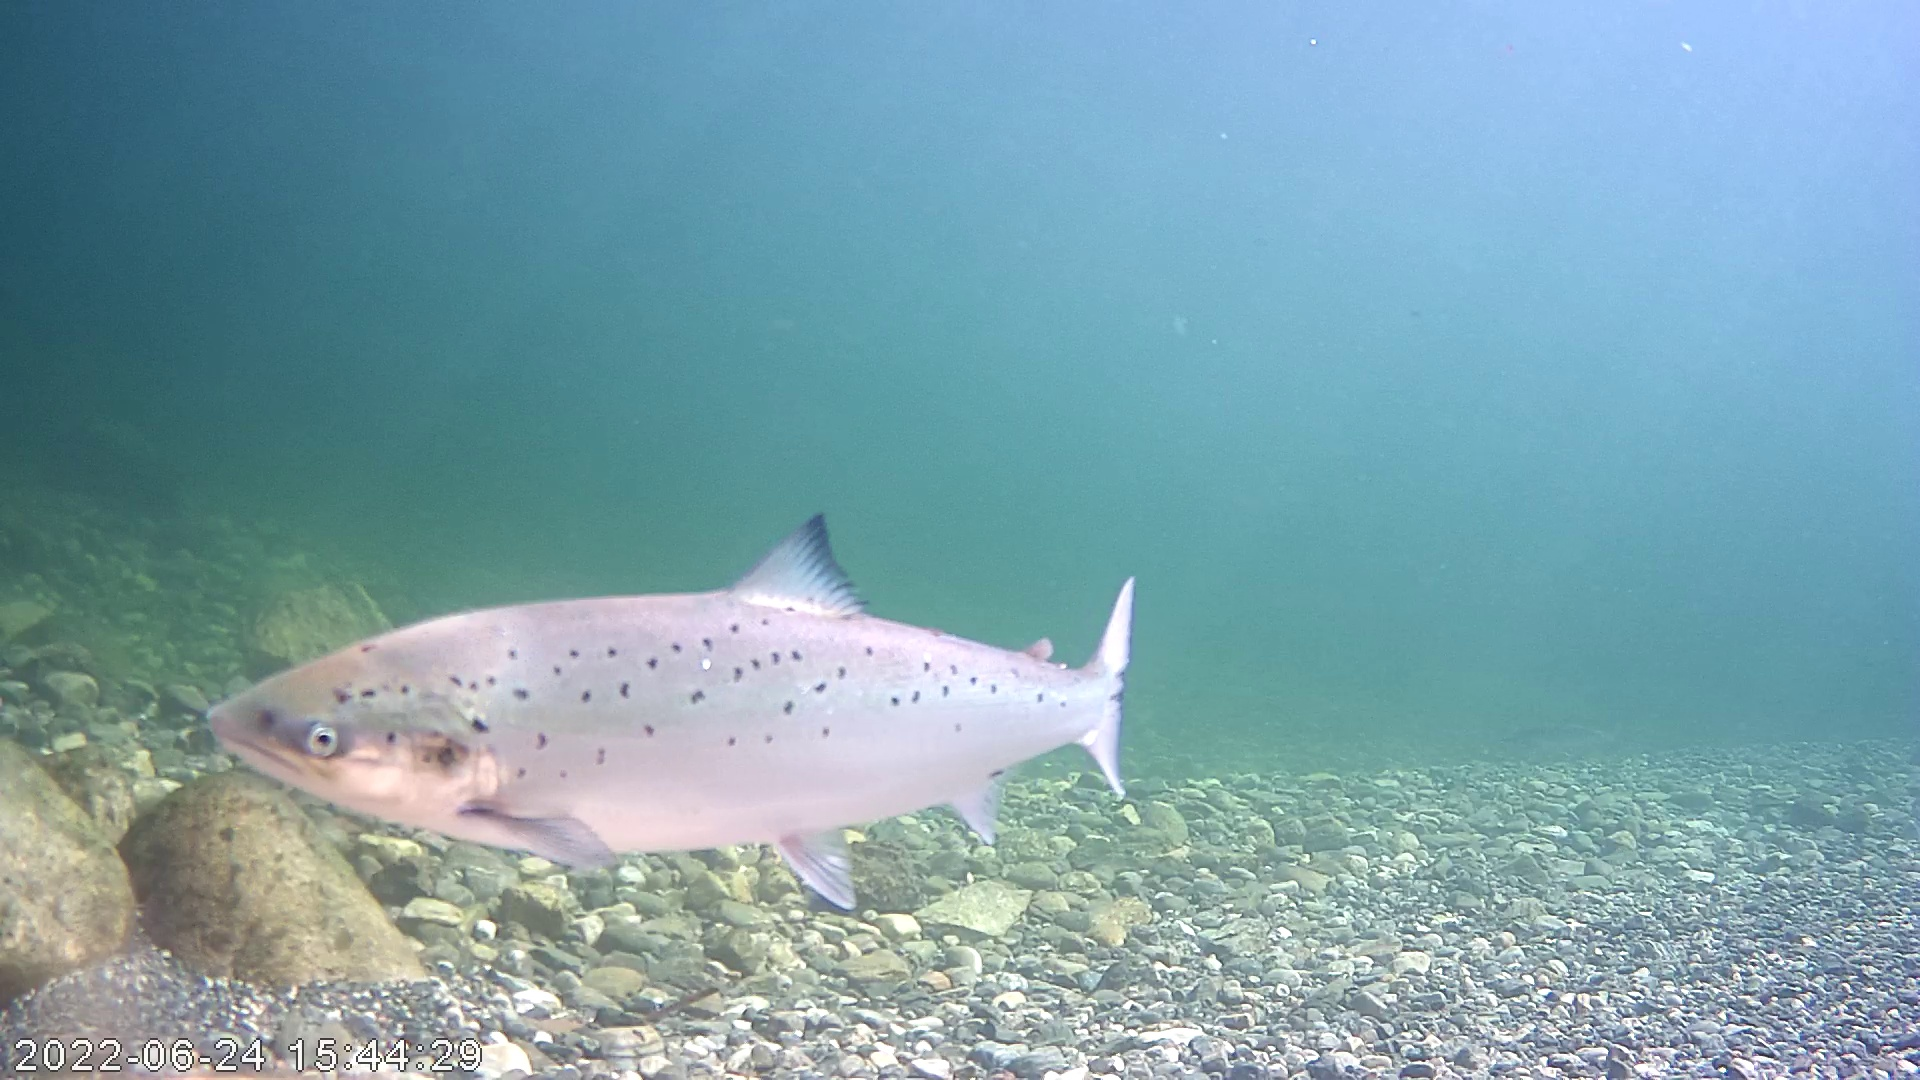salmon: (199, 506, 1145, 911)
